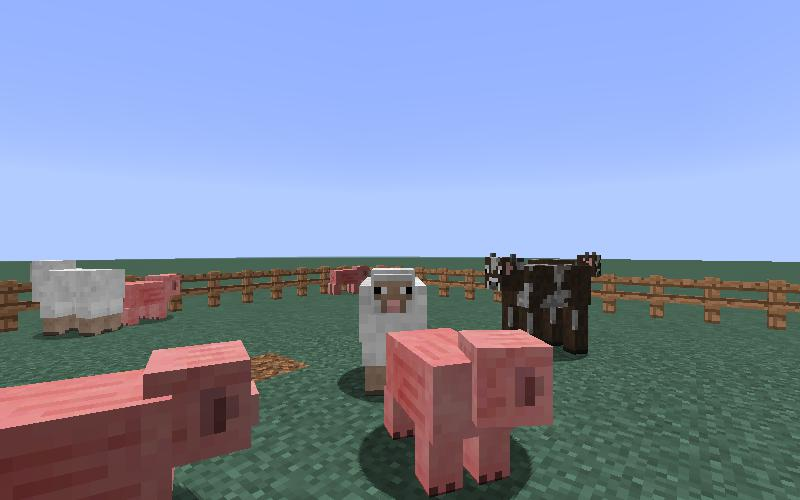cow: (481, 251, 593, 361)
pig: (1, 334, 266, 500), (381, 323, 557, 500), (125, 274, 182, 327), (328, 266, 369, 296)
sheep: (358, 265, 428, 396), (29, 255, 125, 345)
